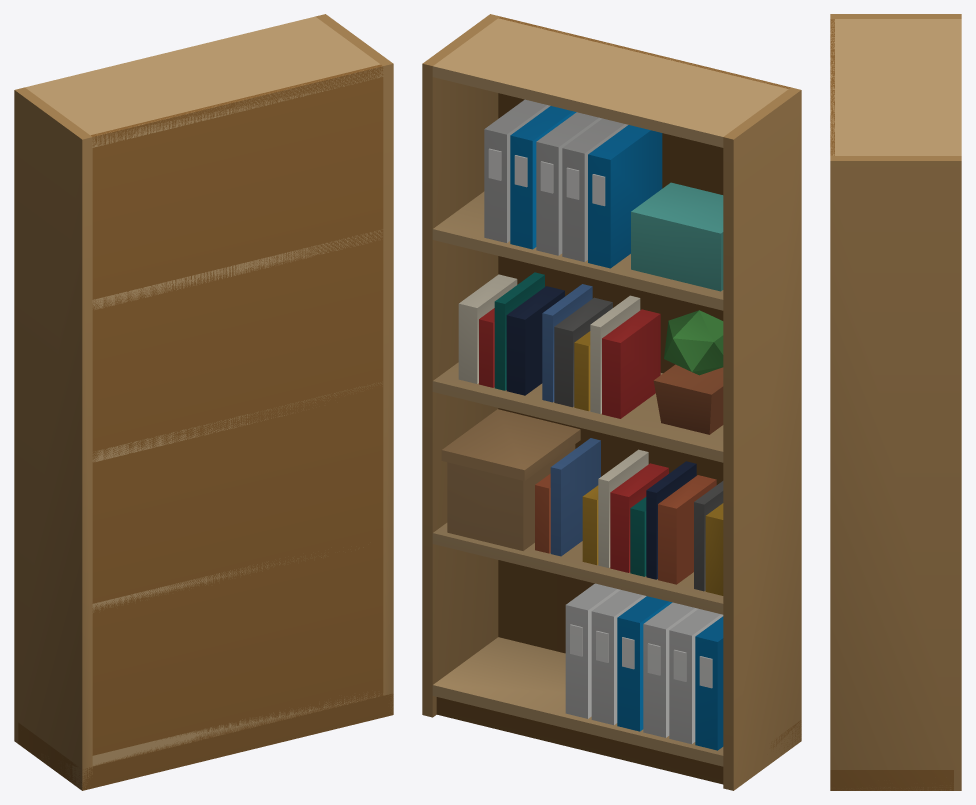
File: shelf_open_01.glb
3 renders of one model, left to right at view 1: azimuth 30°, elevation 25°; view 2: azimuth 150°, elevation 25°; view 3: azimuth 270°, elevation 25°, orthographic. The views are drawn at different scales.
Visible parts, largest first — view 1: shelf_open_01_mesh; view 2: shelf_open_01_mesh; view 3: shelf_open_01_mesh.
Part boxes in pixels (x1=…): shelf_open_01_mesh: x1=14, y1=14, x2=393, y2=790; shelf_open_01_mesh: x1=422, y1=14, x2=801, y2=790; shelf_open_01_mesh: x1=830, y1=14, x2=961, y2=790.
Bounding box in the file's own units: 0.9 × 1.8 × 0.34.
Materials: 1 (1 with a texture image).
